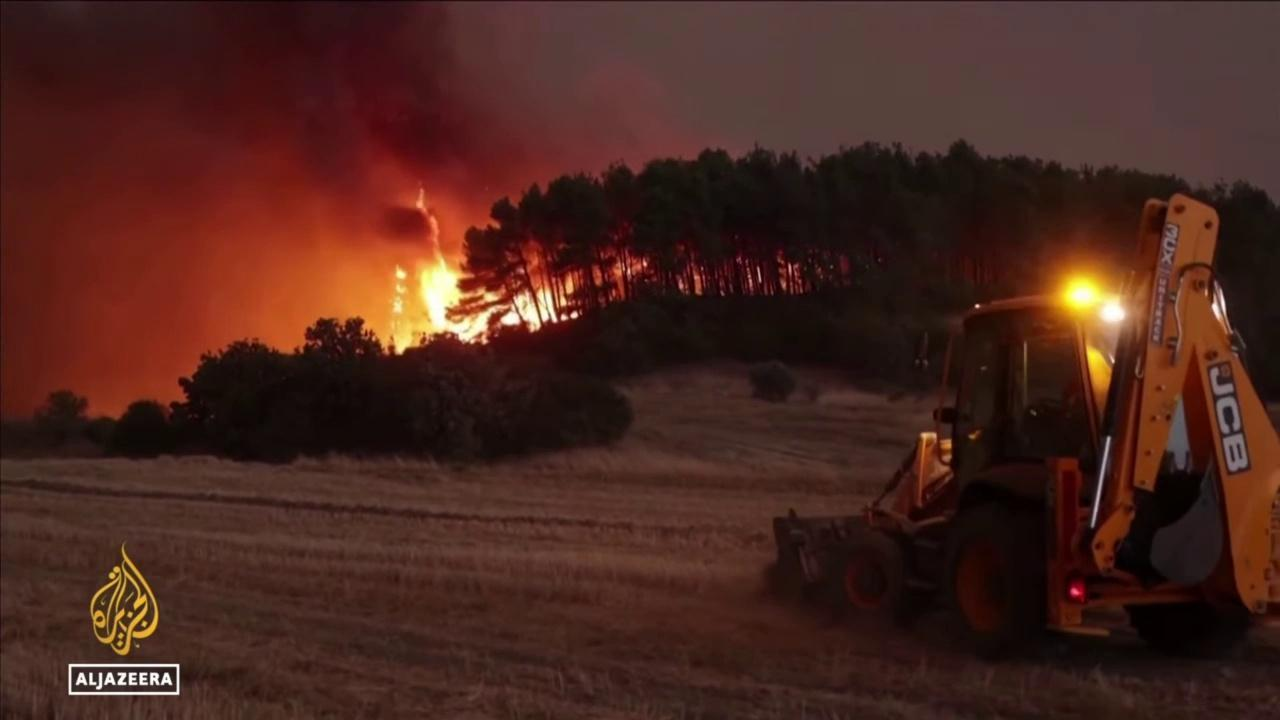fire: (386, 182, 854, 356)
smoke: (0, 0, 742, 427)
